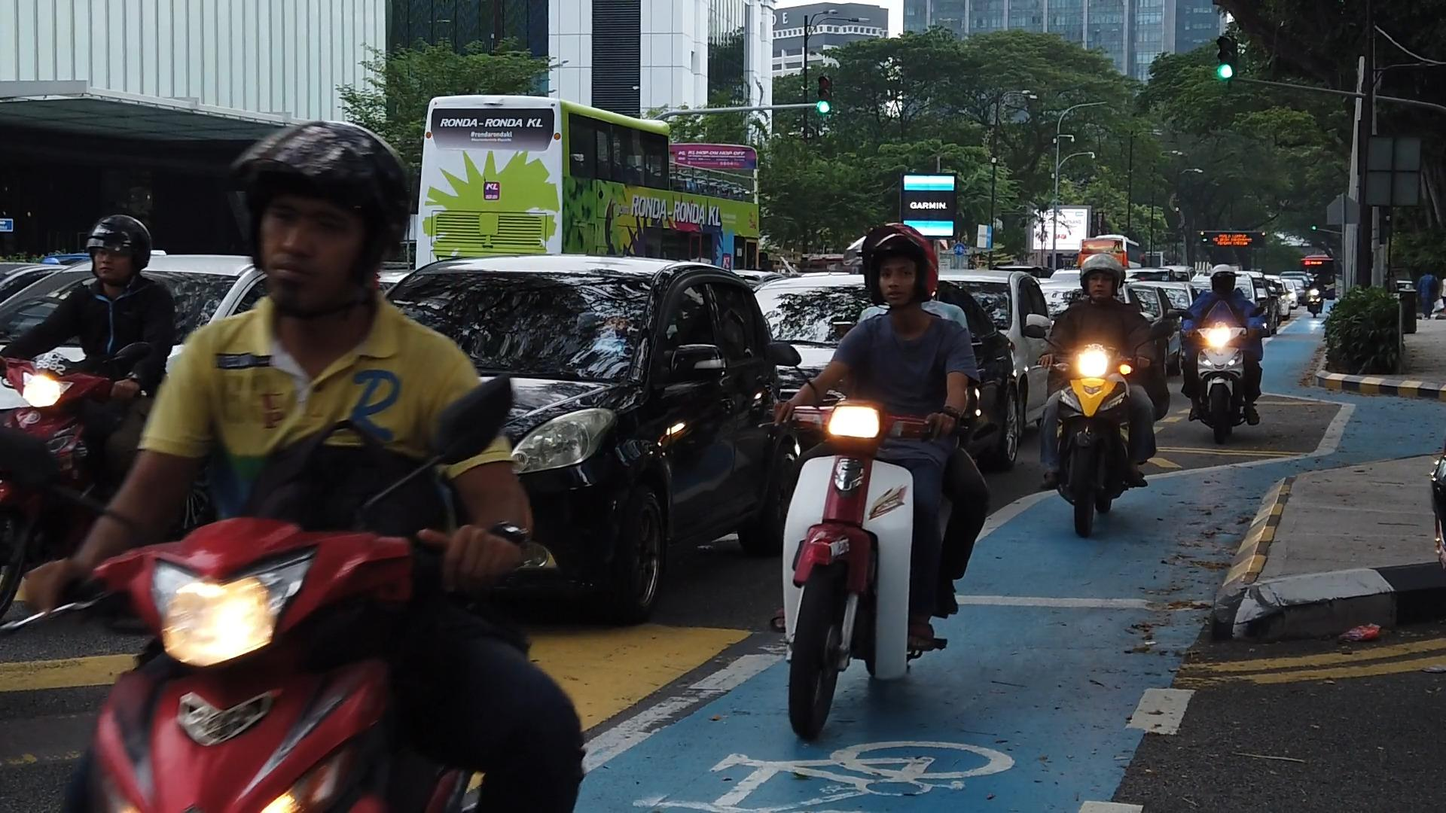driver: (0, 120, 583, 813), (757, 222, 989, 742), (0, 213, 175, 617), (1024, 253, 1171, 539), (1180, 263, 1265, 445)
helmet: (224, 119, 410, 318), (862, 222, 939, 309), (83, 214, 153, 288), (1080, 253, 1125, 303), (1210, 264, 1236, 294)
